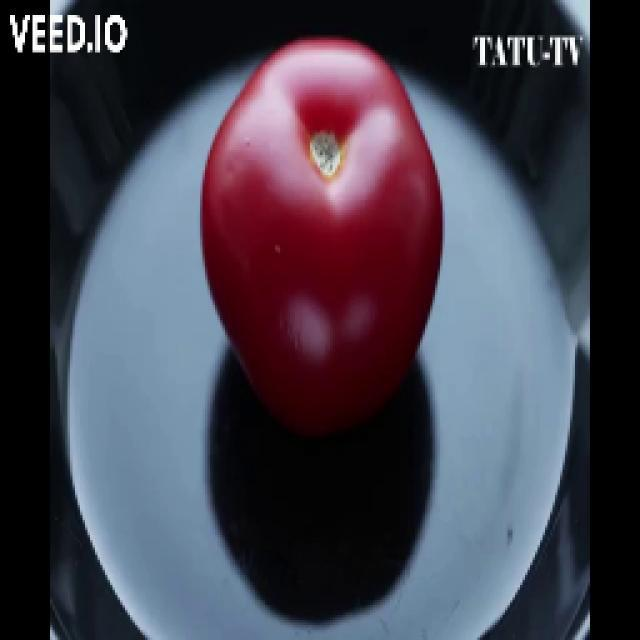tomato: (199, 38, 444, 444)
